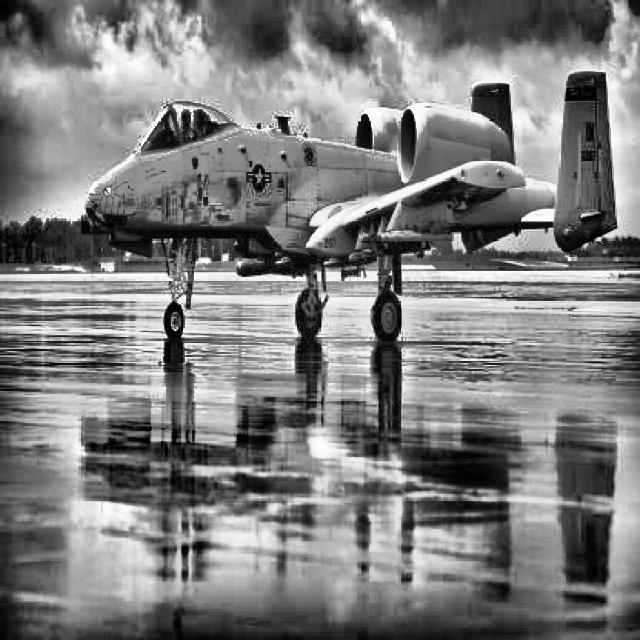A10: (80, 68, 618, 340)
